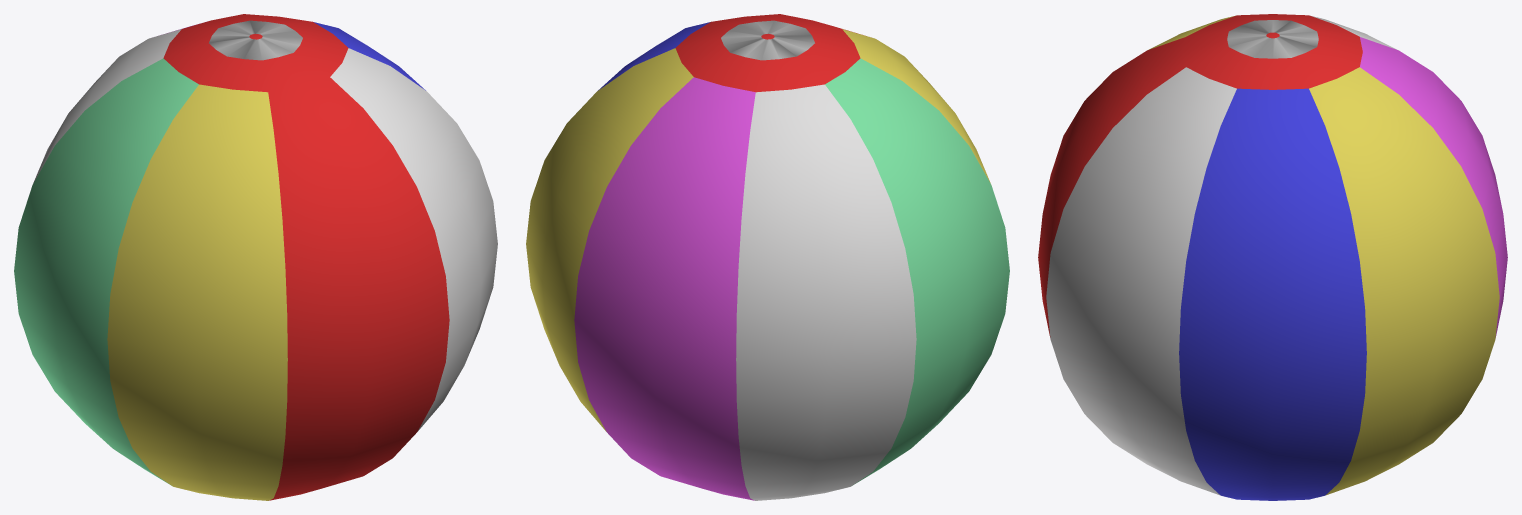
3 views of the same model, side by side, from view 1: azimuth 30°, elevation 25°; view 2: azimuth 150°, elevation 25°; view 3: azimuth 270°, elevation 25° (orthographic).
Visible parts, largest first — view 1: KamifusenBall_Roll; view 2: KamifusenBall_Roll; view 3: KamifusenBall_Roll.
Part boxes in pixels (x1,y1,x2,y2): KamifusenBall_Roll: (14,14,497,500); KamifusenBall_Roll: (526,14,1009,500); KamifusenBall_Roll: (1038,14,1507,500).
Size of the model in its own units: 0.4792 by 0.5 by 0.4792.
